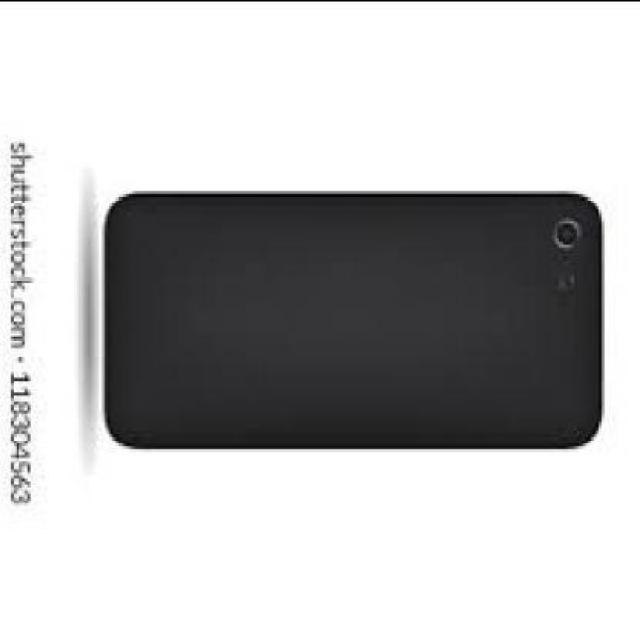mobile: (106, 192, 603, 448)
